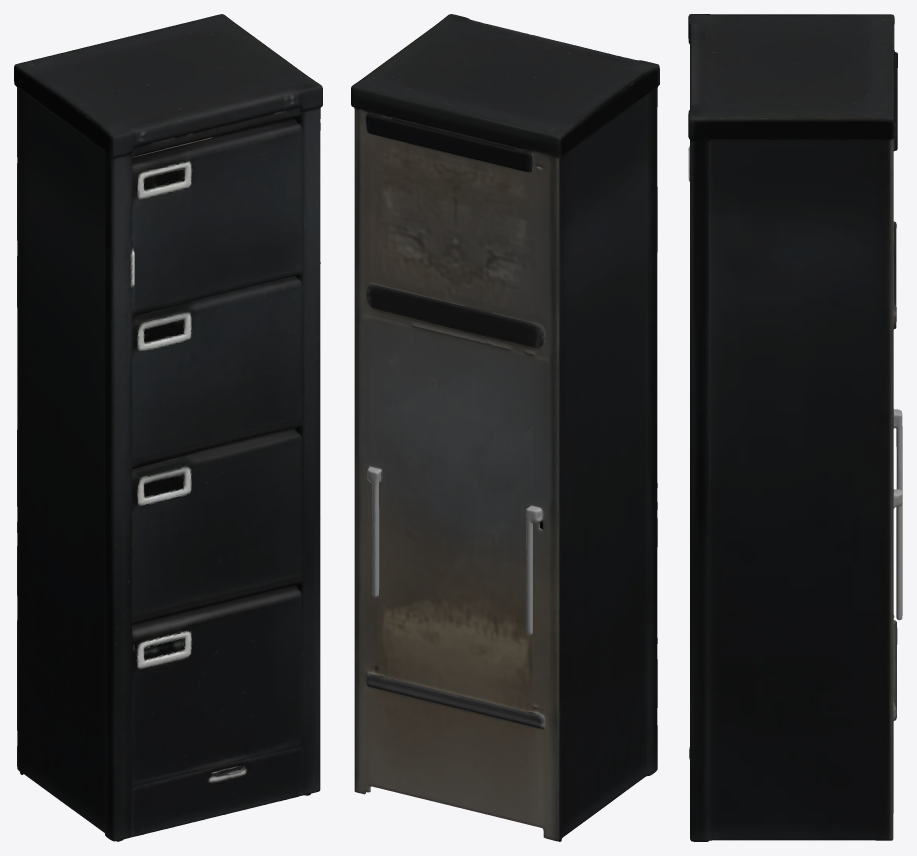
The model's file is Filing Cabinet.glb.
The picture shows the model from 3 angles, left to right: view 1: azimuth 30°, elevation 25°; view 2: azimuth 150°, elevation 25°; view 3: azimuth 270°, elevation 25°; orthographic projection. The views are drawn at different scales.
Parts seen in each view (by area): view 1: world; view 2: world; view 3: world.
Part boxes in pixels (<box>): world: <box>14,14,322,841</box>; world: <box>351,14,659,841</box>; world: <box>688,14,902,841</box>.
Bounding box in the file's own units: 0.3121 × 1 × 0.2678.
1 material, 1 textured.
